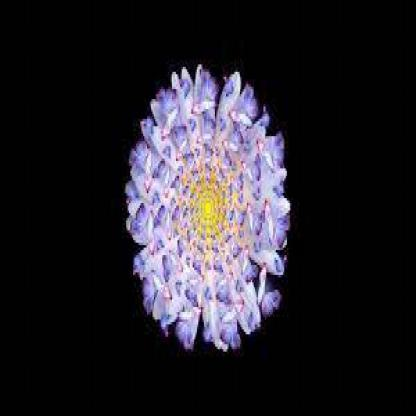Kenanga: (47, 46, 210, 251)
